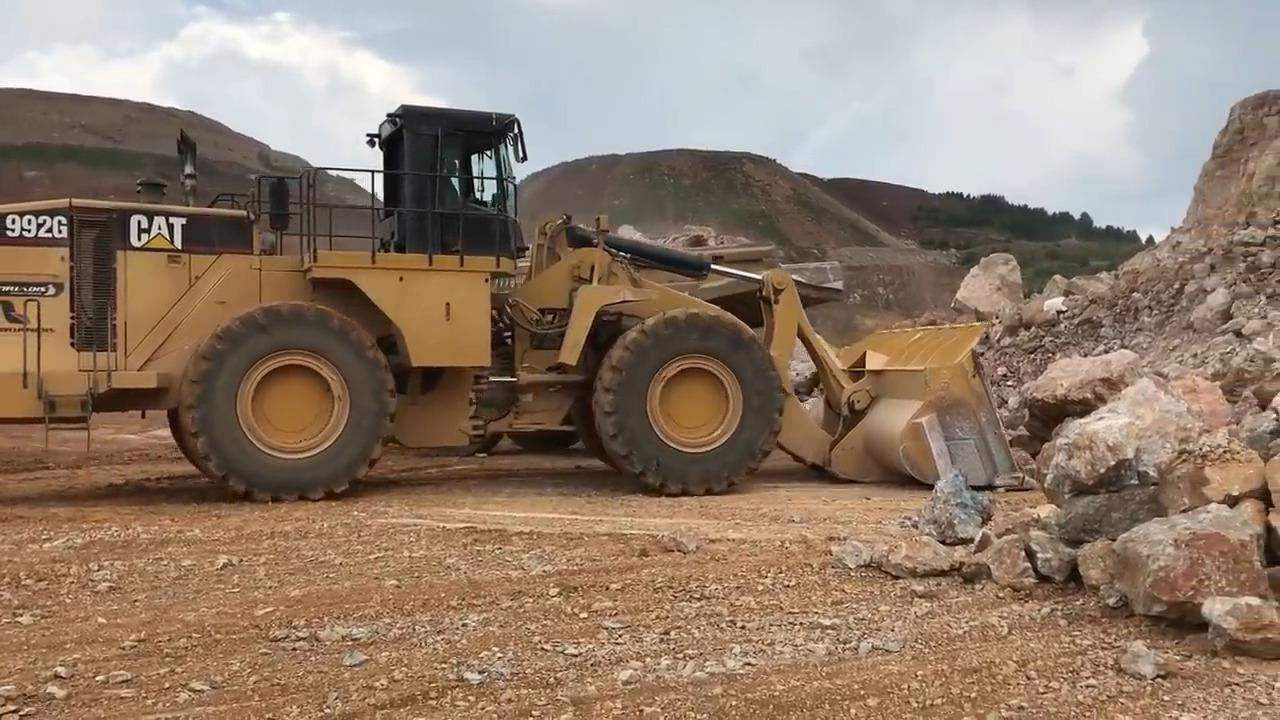wheel loader: (0, 95, 1039, 509)
